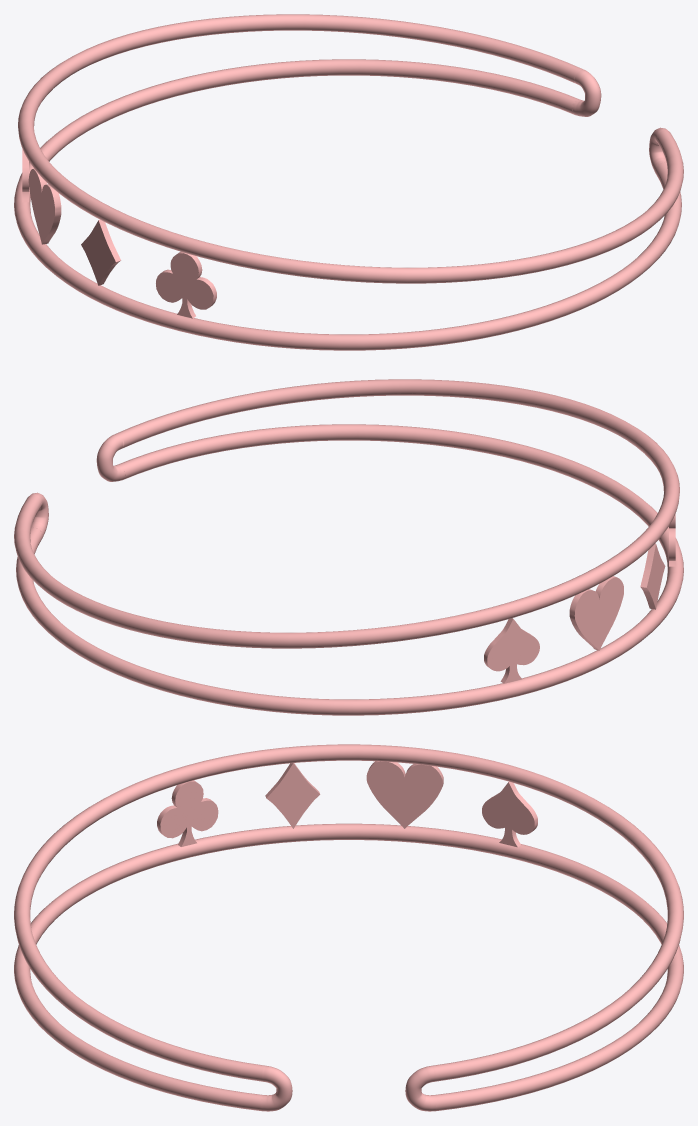
File: 8-pink.gltf
3 views of the same model, one above another, from view 1: azimuth 30°, elevation 25°; view 2: azimuth 150°, elevation 25°; view 3: azimuth 270°, elevation 25° (orthographic).
Visible parts, largest first — view 1: Arc002, Line012, Line010, Line011; view 2: Arc002, Line010, Line009, Line011; view 3: Arc002, Line010, Line012, Line009, Line011.
Boxes of the visible parts, bbox=[...] form: Arc002: bbox=[14, 14, 683, 350]; Line012: bbox=[156, 251, 216, 318]; Line010: bbox=[28, 168, 61, 244]; Line011: bbox=[81, 219, 120, 285]; Arc002: bbox=[14, 379, 683, 715]; Line010: bbox=[569, 576, 623, 650]; Line009: bbox=[484, 618, 539, 683]; Line011: bbox=[640, 543, 665, 609]; Arc002: bbox=[14, 744, 683, 1111]; Line010: bbox=[366, 761, 443, 828]; Line012: bbox=[157, 780, 218, 846]; Line009: bbox=[482, 781, 537, 847]; Line011: bbox=[265, 763, 320, 828].
Size of the model in its own units: 20.32 by 3.24 by 20.5.
